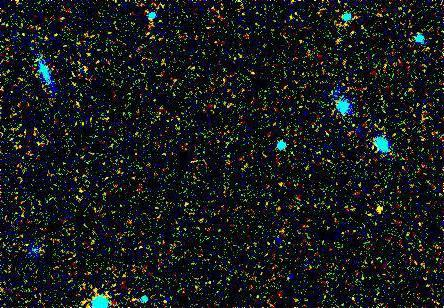star: (364, 195, 394, 225)
